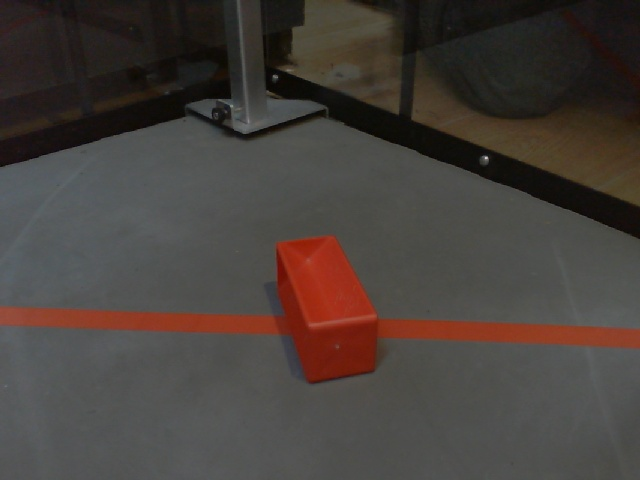RedSample: (269, 234, 383, 386)
